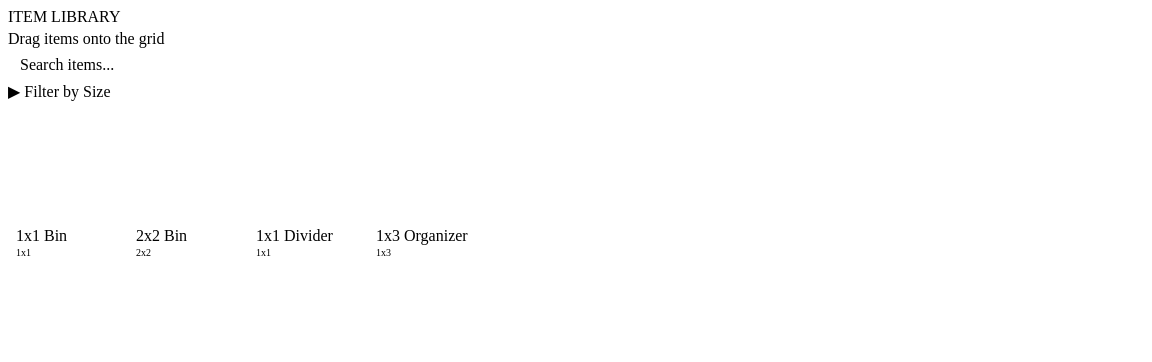
Test: ItemLibrary › Dimension Filtering › should filter items by height when height filter is selected
This screenshot has width=1152, height=362.
What coordinates should you click on to do the following:
click the button "▶ Filter by Size"
I would click on:
 (65, 92)
Its box is x1=8 y1=82 x2=1144 y2=101.
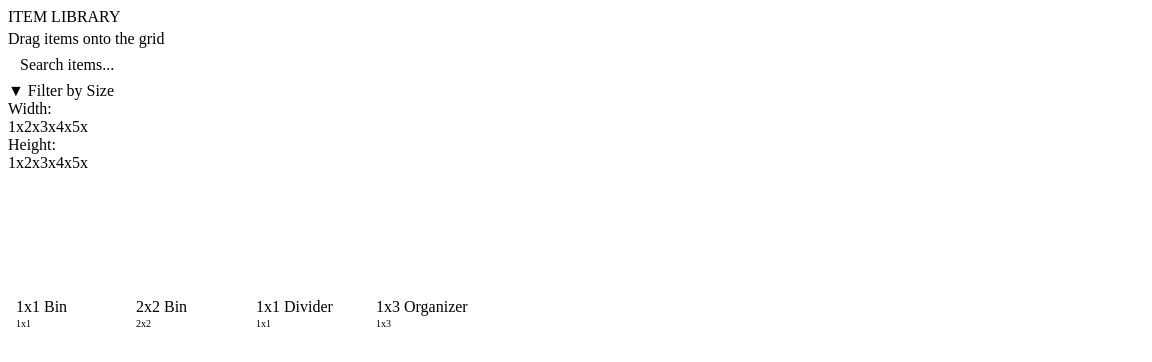
What coordinates should you click on to do the following:
click the button "3x" below "Height:"
I would click on:
 (48, 163)
Its box is x1=40 y1=154 x2=56 y2=172.
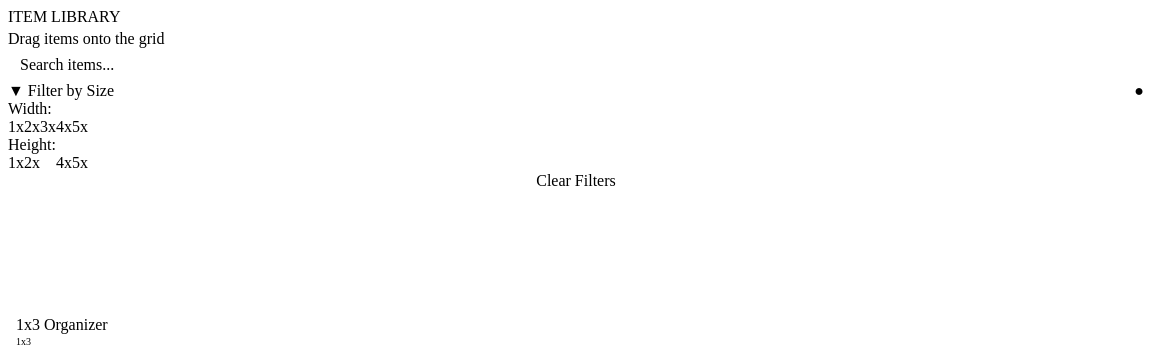
Check: the text "1x3 Organizer" is shown, box x1=16 y1=316 x2=120 y2=334
Check: the button "1x1 Bin" is gone
Check: the button "2x2 Bin" is gone
